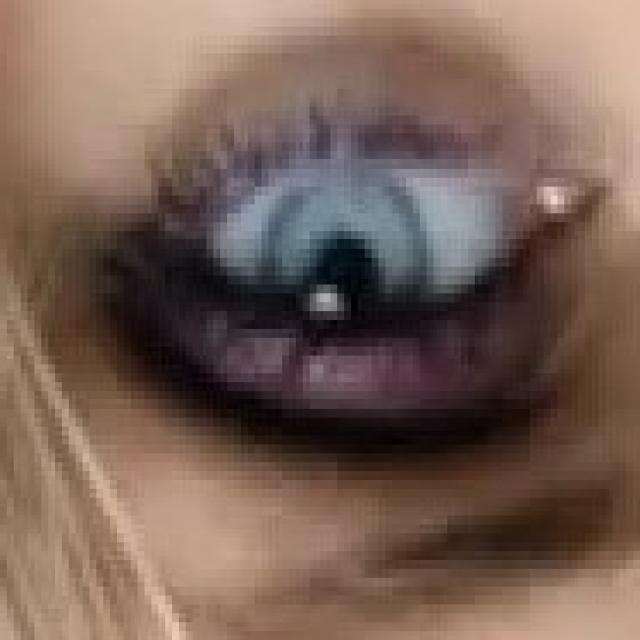Normal: (256, 155, 430, 373)
